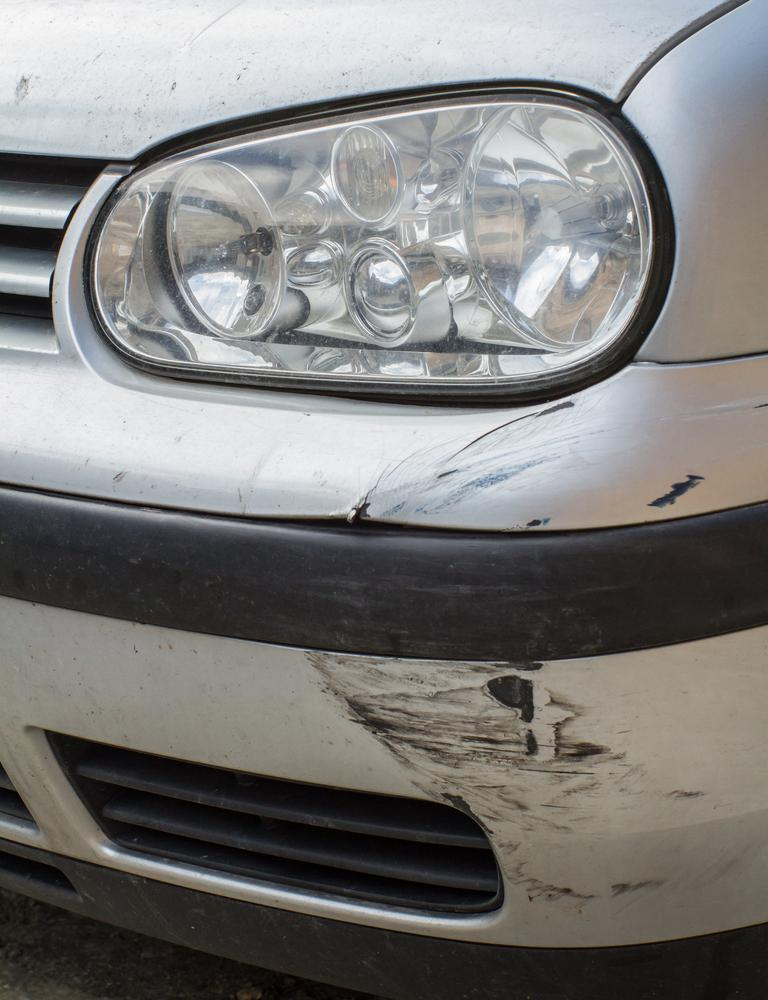scratch: (301, 629, 768, 917), (336, 393, 768, 531)
